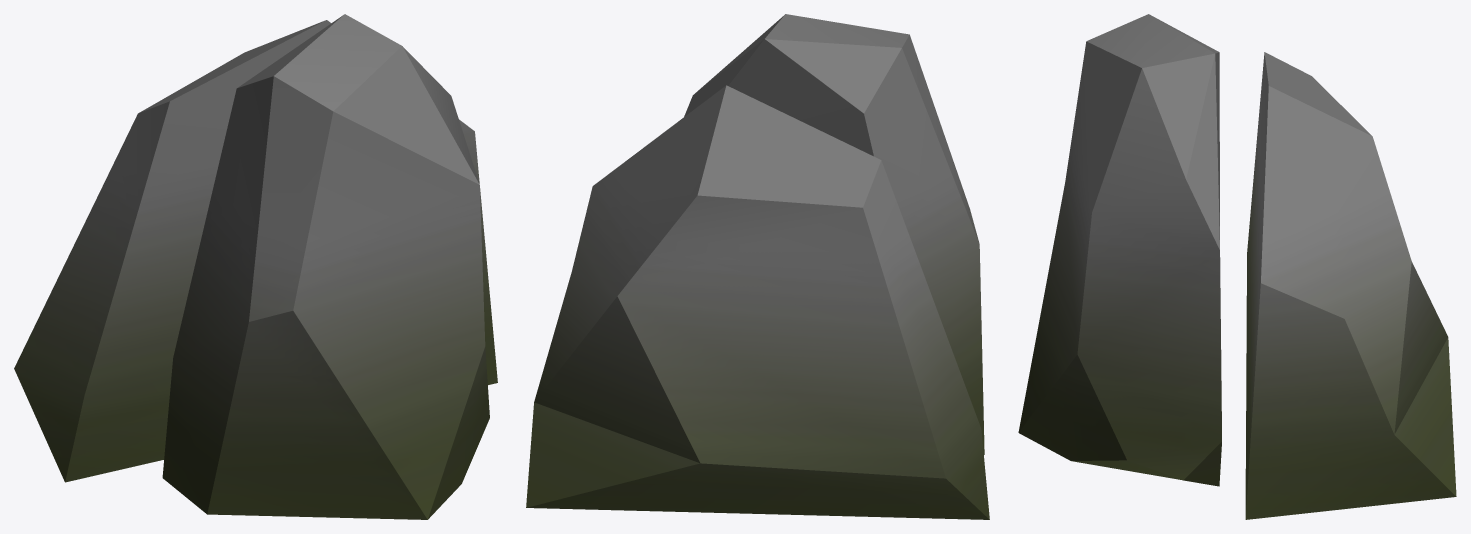
The model's file is ea_environment_stone_moss_01b_pre__6__lev1.glb.
3 views of the same model, side by side, from view 1: azimuth 30°, elevation 25°; view 2: azimuth 150°, elevation 25°; view 3: azimuth 270°, elevation 25° (orthographic). The views are drawn at different scales.
Visible parts, largest first — view 1: ea_environment_stone_moss_01b_pre__6__lev1; view 2: ea_environment_stone_moss_01b_pre__6__lev1; view 3: ea_environment_stone_moss_01b_pre__6__lev1.
Part boxes in pixels (box(x1,y1,x2,y2)): ea_environment_stone_moss_01b_pre__6__lev1: box(14, 14, 497, 519); ea_environment_stone_moss_01b_pre__6__lev1: box(526, 14, 989, 519); ea_environment_stone_moss_01b_pre__6__lev1: box(1018, 14, 1456, 519).
Size of the model in its own units: 1.52 by 1.42 by 1.45.
Materials: 1 (1 with a texture image).
